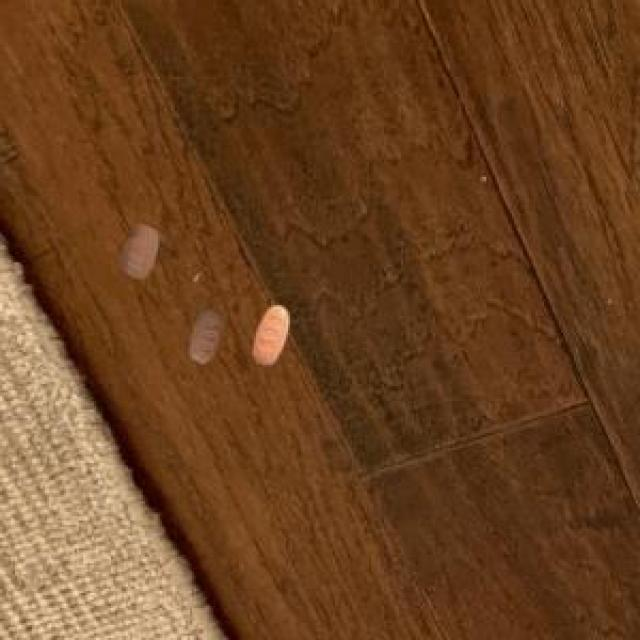Biogesic: (249, 290, 310, 376), (177, 285, 233, 375), (112, 214, 166, 295)
